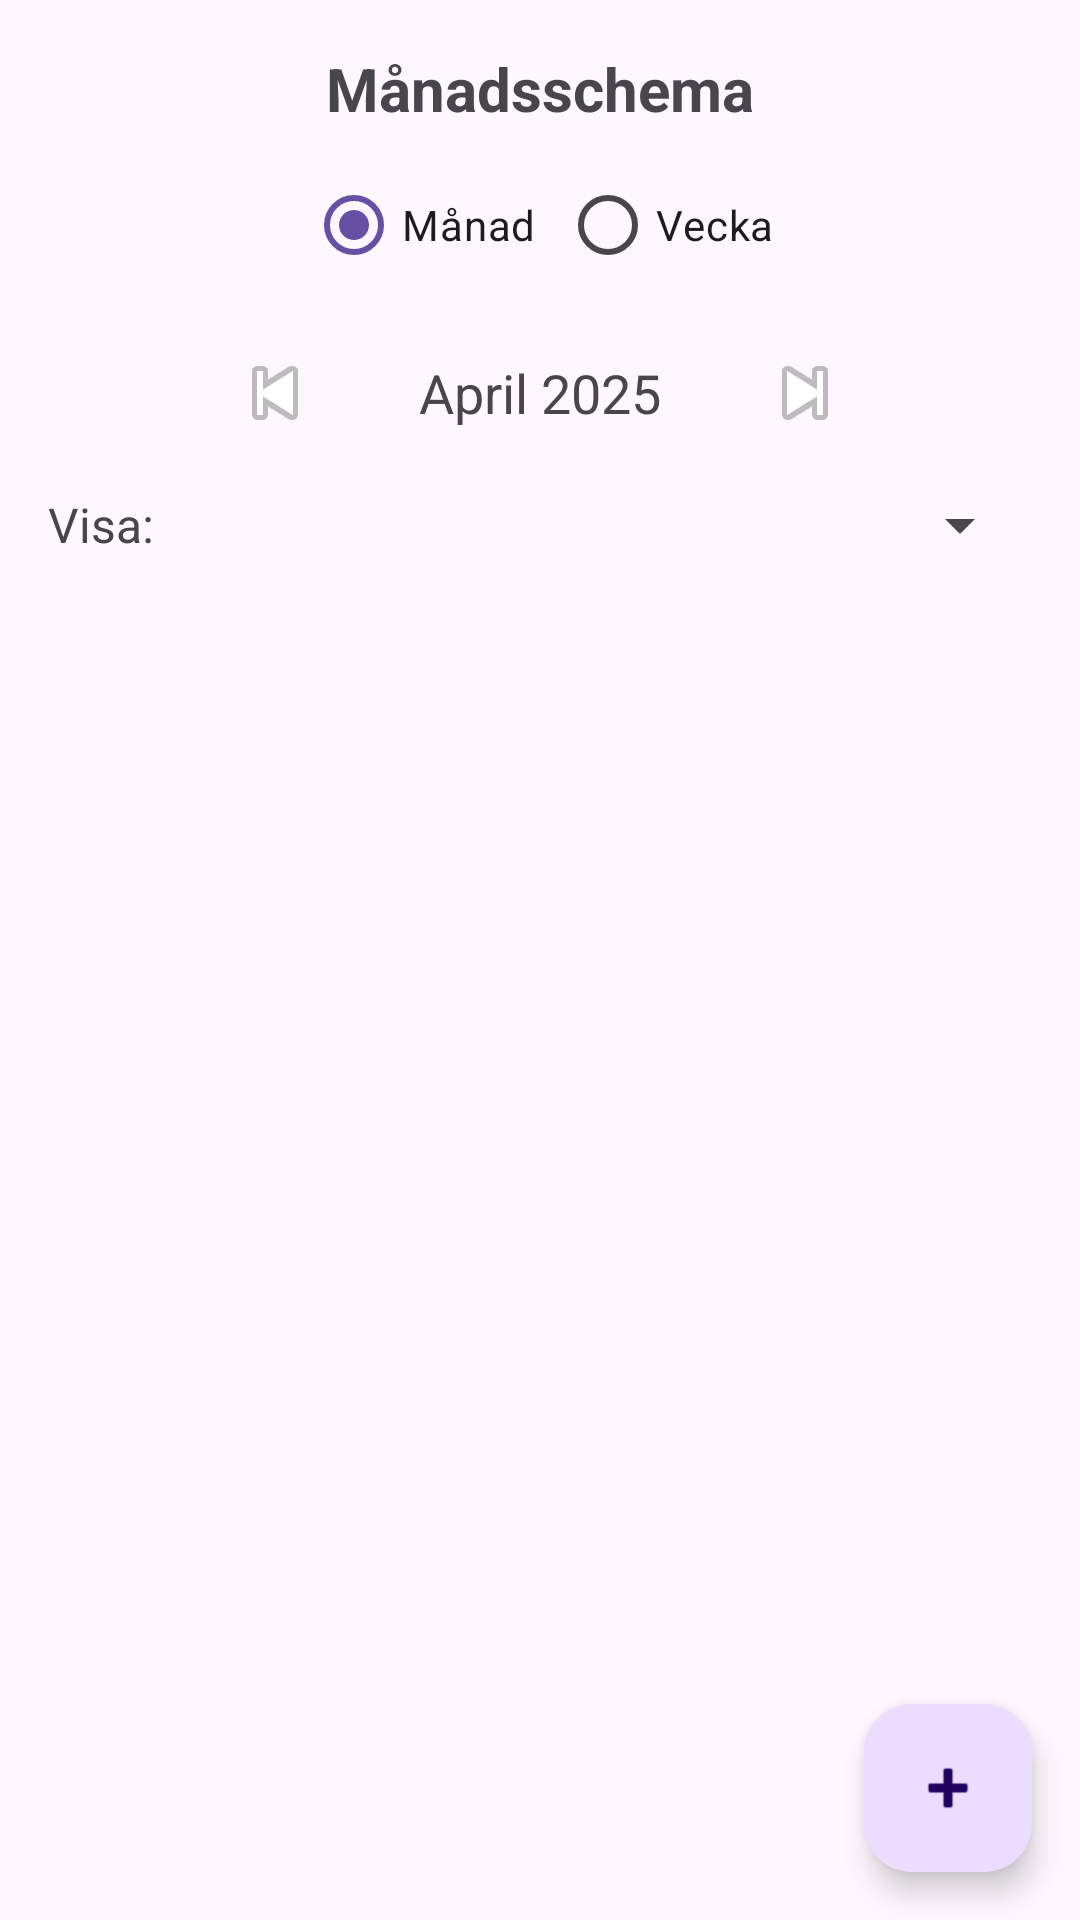

Named icons in this screenshot (1080px x 1920px) and their centers, (x,y):
Lägg till arbetspass: (948,1788)
Next: (805,393)
Previous: (275,393)
